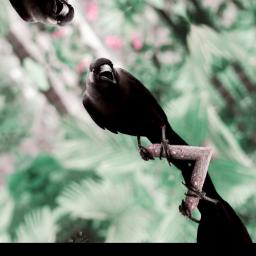Crow: (64, 42, 200, 195)
